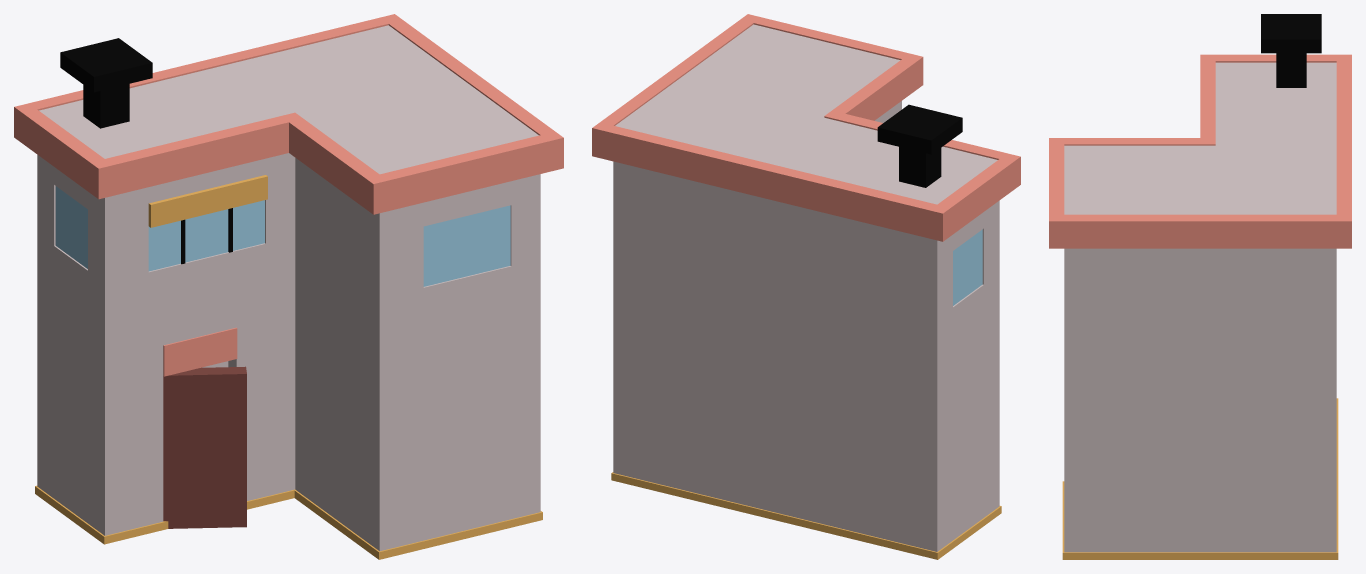
The model's file is fangjian2.obj.
The picture shows the model from 3 angles, left to right: view 1: azimuth 30°, elevation 25°; view 2: azimuth 150°, elevation 25°; view 3: azimuth 270°, elevation 25°; orthographic projection. The views are drawn at different scales.
Size of the model in its own units: 2.6 by 2.9 by 2.
